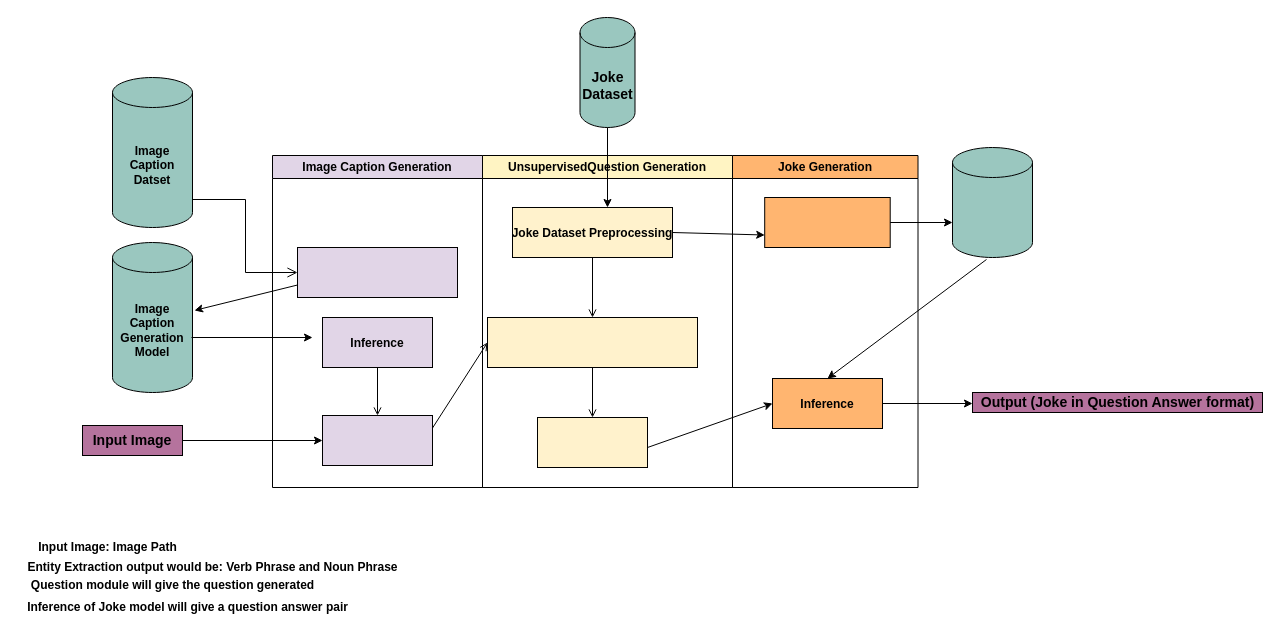
Some shapes in this 1280 by 635 pixel diagram are drawn without their labels. The centre of each missing label's shape, as x and y in pixels:
"Entity Extraction" goes at [377,440].
"FInetuned Joke Generation model" goes at [992,202].
"Question" goes at [592,442].
"Training(GPT2 model)" goes at [827,222].
"Training(ResNet+Seq model)" goes at [377,272].
"Unsupervised Question Generation" goes at [592,342].
